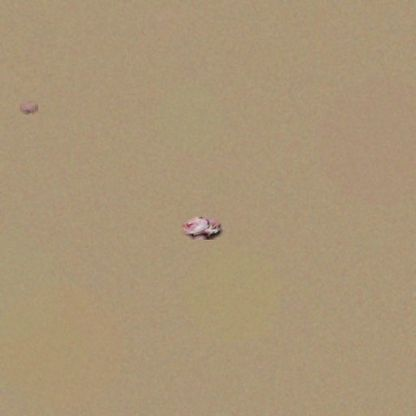healthy: (20, 101, 38, 115)
sprouted: (181, 217, 224, 240)
